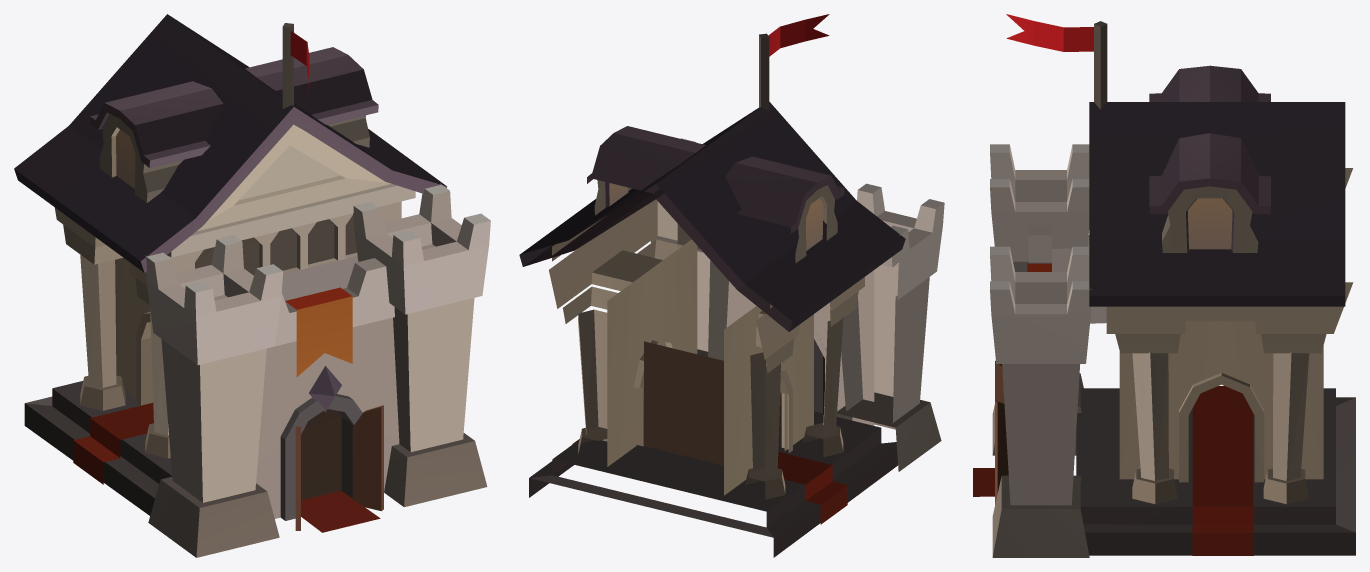
The model's file is castle02.fbx.
3 renders of one model, left to right at view 1: azimuth 30°, elevation 25°; view 2: azimuth 150°, elevation 25°; view 3: azimuth 270°, elevation 25°, orthographic. The views are drawn at different scales.
Visible parts, largest first — view 1: castle02; view 2: castle02; view 3: castle02.
Boxes of the visible parts, x1,y1,x2,y2 form: castle02: (14, 14, 490, 557); castle02: (519, 14, 944, 557); castle02: (973, 14, 1355, 557).
Bounding box in the file's own units: 1.92 × 2.74 × 2.05.
Materials: 1 (1 with a texture image).
